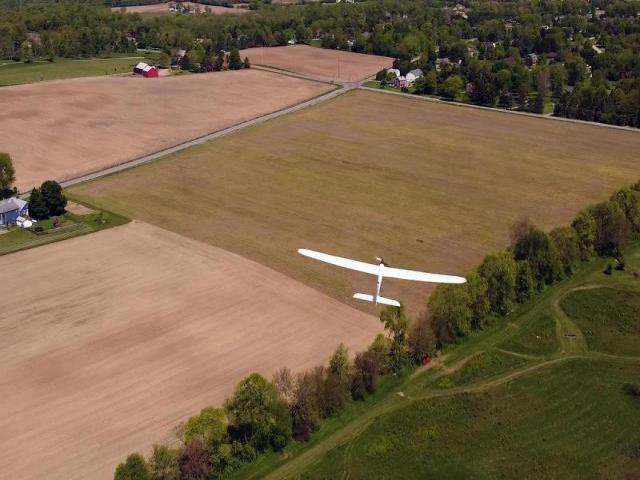hedef: (290, 239, 472, 330)
